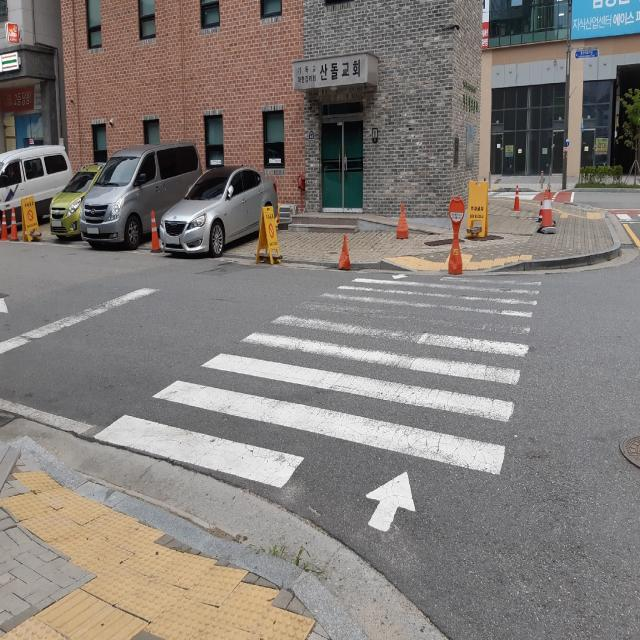횡단보도: (93, 273, 542, 532)
